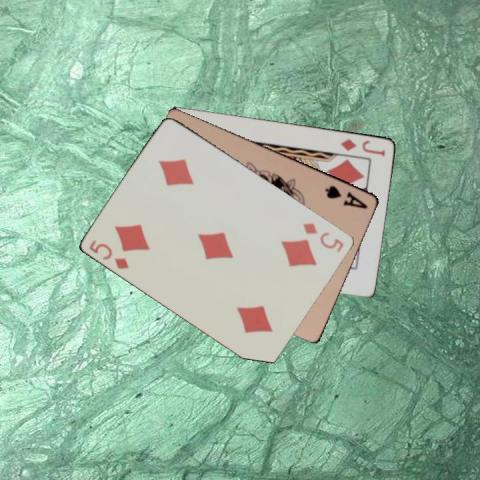5d: (300, 219, 346, 254), (86, 236, 131, 270)
As: (323, 182, 369, 210)
Jd: (338, 135, 387, 158)
